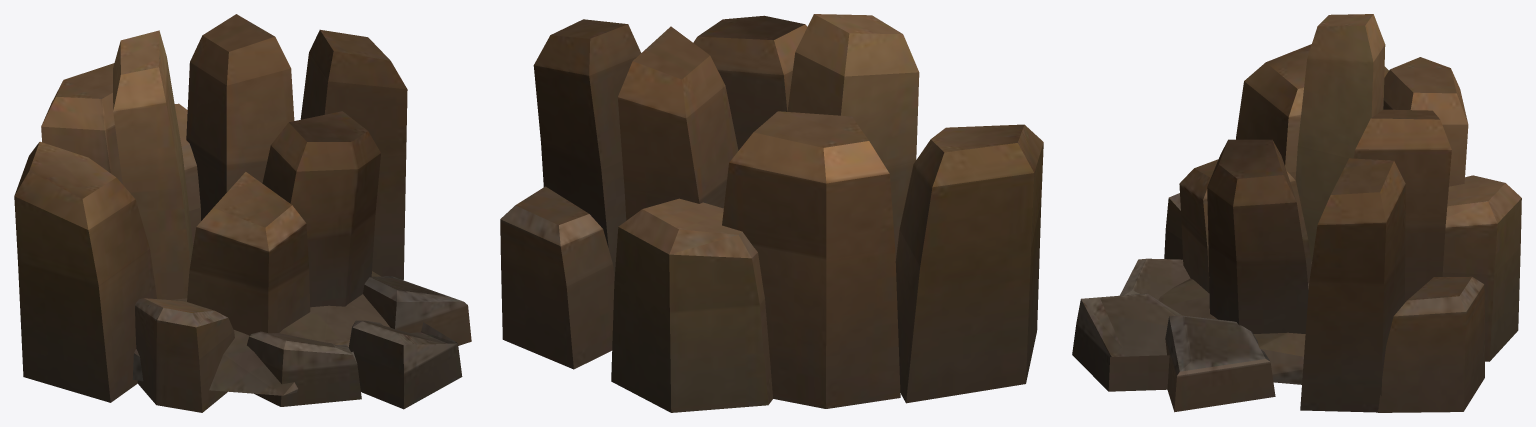
File: big-rock.glb
The picture shows the model from 3 angles, left to right: view 1: azimuth 30°, elevation 25°; view 2: azimuth 150°, elevation 25°; view 3: azimuth 270°, elevation 25°; orthographic projection. The views are drawn at different scales.
Parts seen in each view (by area): view 1: big-rock; view 2: big-rock; view 3: big-rock.
Part boxes in pixels (<box>): big-rock: <box>14,14,471,412</box>; big-rock: <box>500,14,1043,412</box>; big-rock: <box>1072,14,1521,412</box>.
Size of the model in its own units: 2.03 by 1.44 by 2.06.
Materials: 1 (1 with a texture image).
